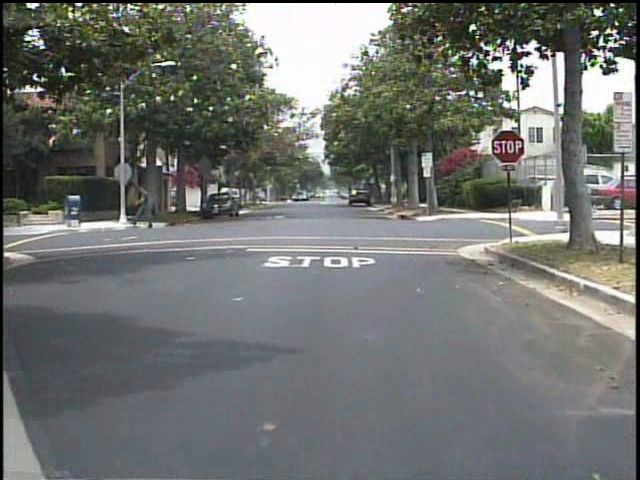person: (132, 178, 157, 233)
